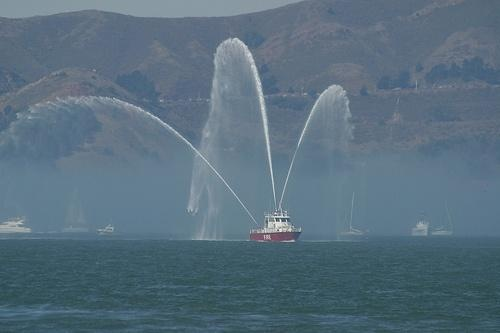boat: (249, 209, 305, 244), (339, 192, 369, 241), (411, 210, 433, 239), (1, 218, 30, 238), (98, 224, 121, 240), (432, 227, 457, 239)
